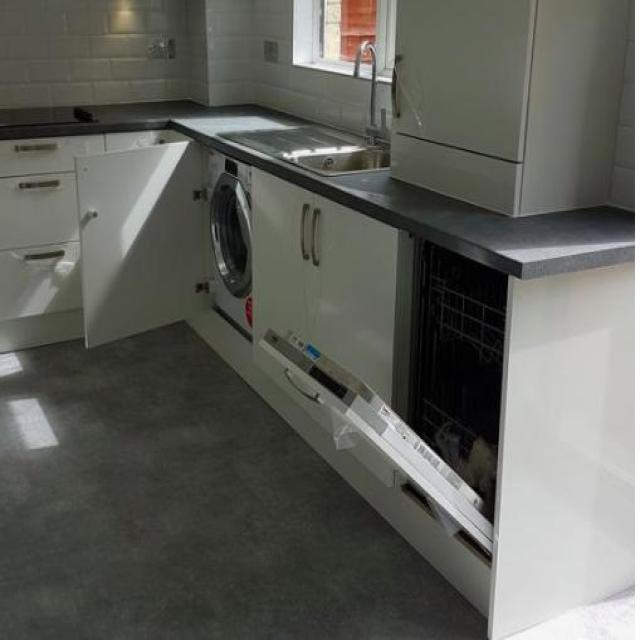dishwasher: (255, 231, 517, 573)
